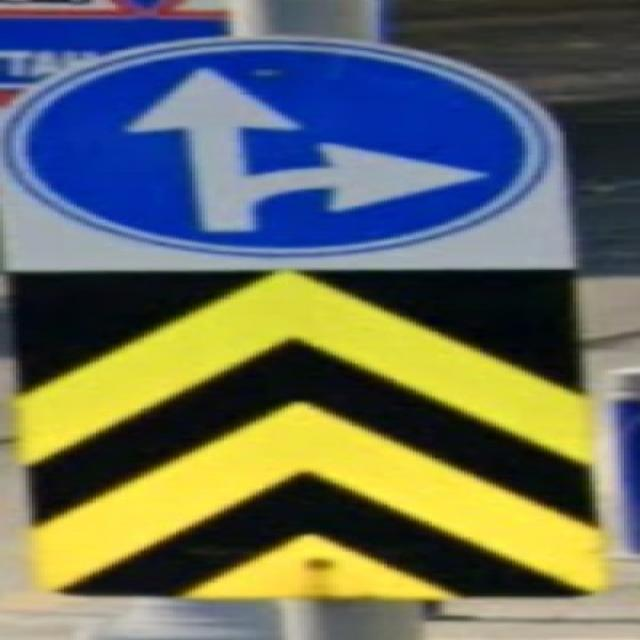Straight or Right: (4, 43, 545, 254)
